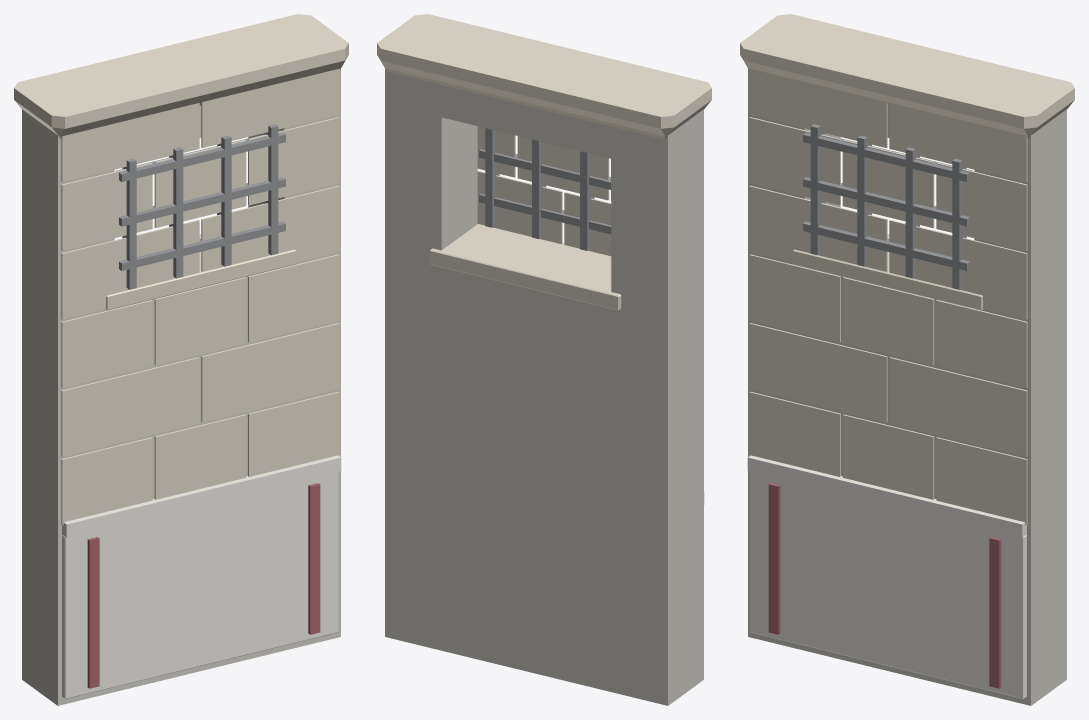
The model's file is roman-bathhouse-and-palaestra-bathhouse-wall-module-wi-6dd3578f__37854.glb.
The picture shows the model from 3 angles, left to right: view 1: azimuth 30°, elevation 25°; view 2: azimuth 150°, elevation 25°; view 3: azimuth 330°, elevation 25°; orthographic projection.
Visible parts, largest first — view 1: bathhouse-wall-module-window; view 2: bathhouse-wall-module-window; view 3: bathhouse-wall-module-window.
Boxes of the visible parts, x1,y1,x2,y2 form: bathhouse-wall-module-window: (14, 14, 348, 705); bathhouse-wall-module-window: (377, 14, 711, 705); bathhouse-wall-module-window: (740, 14, 1074, 705).
Size of the model in its own units: 2.1 by 4 by 0.5799.
